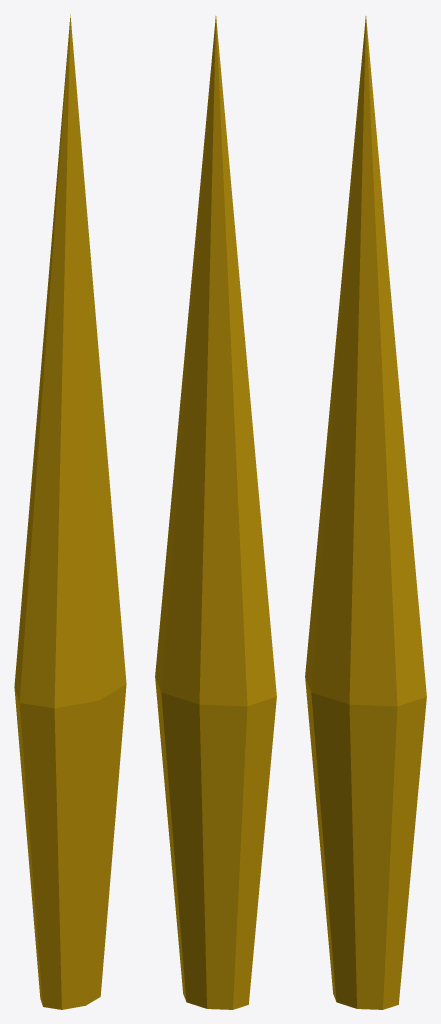
The model's file is g8-yellow.obj.
The picture shows the model from 3 angles, left to right: view 1: azimuth 30°, elevation 25°; view 2: azimuth 150°, elevation 25°; view 3: azimuth 330°, elevation 25°; orthographic projection.
Visible parts, largest first — view 1: g8-yellow_Cylinder.036; view 2: g8-yellow_Cylinder.036; view 3: g8-yellow_Cylinder.036.
Part boxes in pixels (x1,y1,x2,y2): g8-yellow_Cylinder.036: (14, 14, 126, 1009); g8-yellow_Cylinder.036: (155, 16, 276, 1009); g8-yellow_Cylinder.036: (305, 16, 426, 1009).
Size of the model in its own units: 0.2569 by 2.16 by 0.1784.
